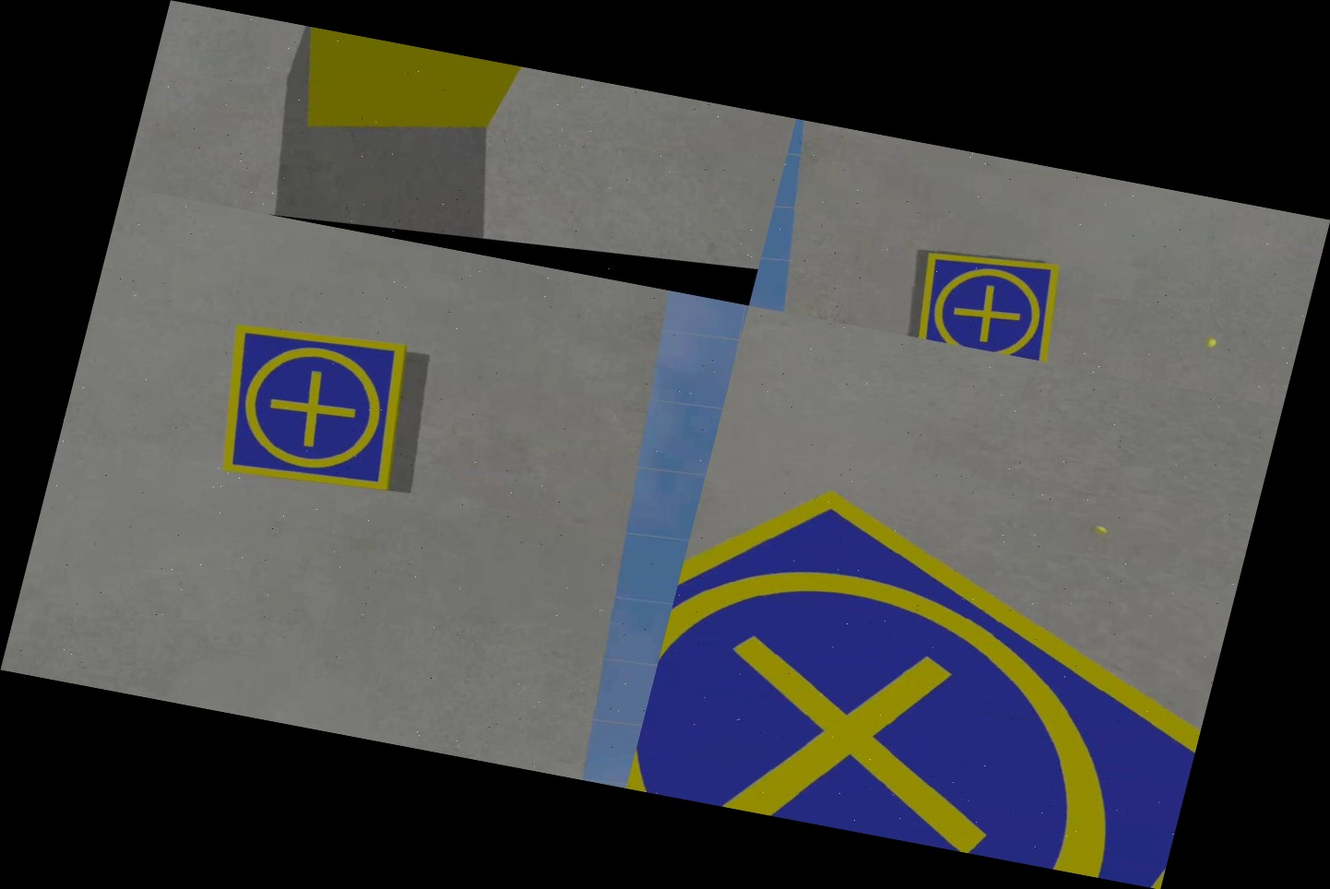small_base: (626, 430, 1251, 889), (196, 309, 430, 507), (907, 239, 1075, 363)
